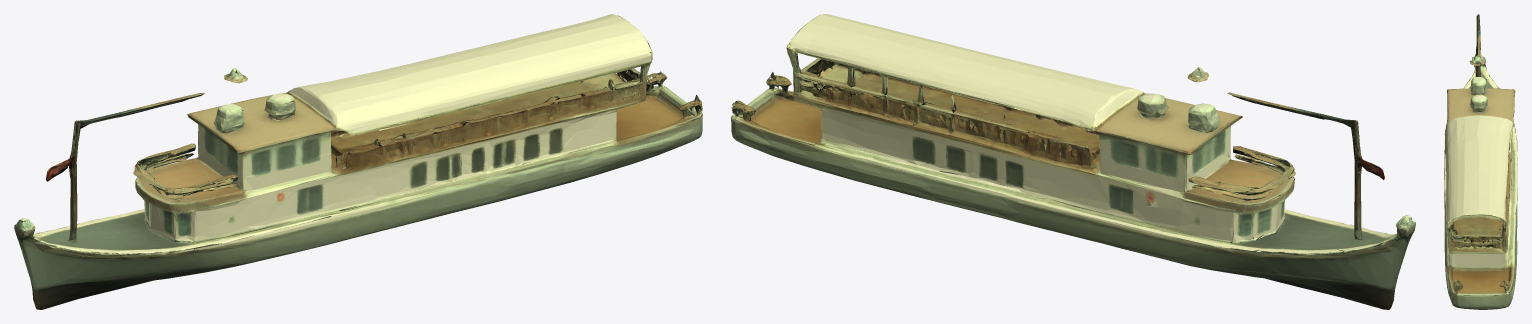
Rendered from category_mesh_boat_1.glb.
3 views of the same model, side by side, from view 1: azimuth 30°, elevation 25°; view 2: azimuth 150°, elevation 25°; view 3: azimuth 270°, elevation 25° (orthographic). The views are drawn at different scales.
Visible parts, largest first — view 1: category_mesh_boat_1; view 2: category_mesh_boat_1; view 3: category_mesh_boat_1.
Part boxes in pixels (x1,y1,x2,y2): category_mesh_boat_1: (14, 14, 702, 309); category_mesh_boat_1: (731, 14, 1415, 309); category_mesh_boat_1: (1444, 14, 1517, 309).
Size of the model in its own units: 1 by 0.2796 by 0.1453.
1 material, 1 textured.
